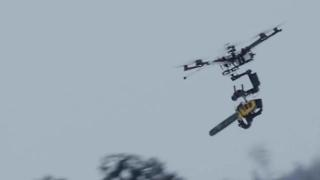UAV: (175, 22, 283, 80)
